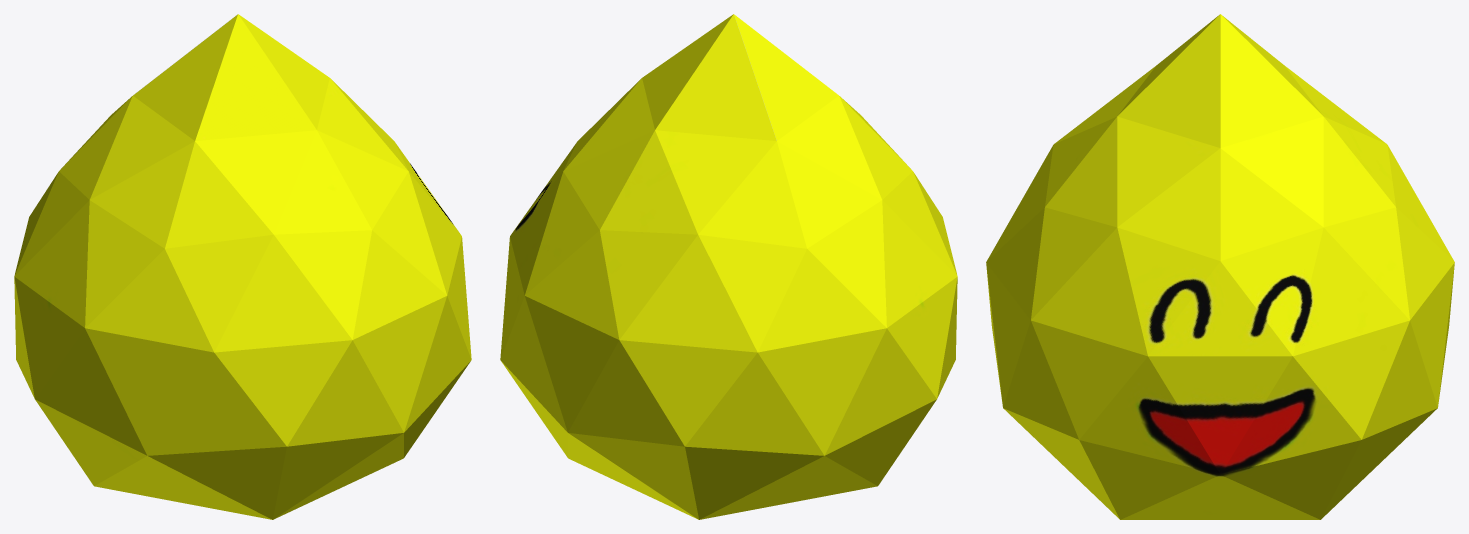
The model's file is YellowSlime.fbx.
The picture shows the model from 3 angles, left to right: view 1: azimuth 30°, elevation 25°; view 2: azimuth 150°, elevation 25°; view 3: azimuth 270°, elevation 25°; orthographic projection. The views are drawn at different scales.
Parts seen in each view (by area): view 1: Icosphere; view 2: Icosphere; view 3: Icosphere.
Boxes of the visible parts, bbox=[...] form: Icosphere: bbox=[14, 14, 471, 519]; Icosphere: bbox=[500, 14, 957, 519]; Icosphere: bbox=[986, 14, 1454, 519].
Size of the model in its own units: 213 by 248 by 213.
